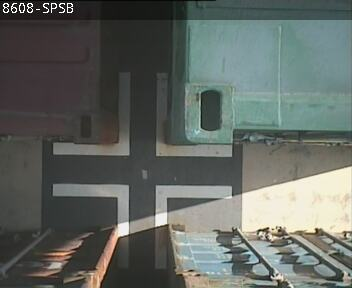groundmarker_1: (52, 182, 232, 267), (53, 73, 232, 158)
